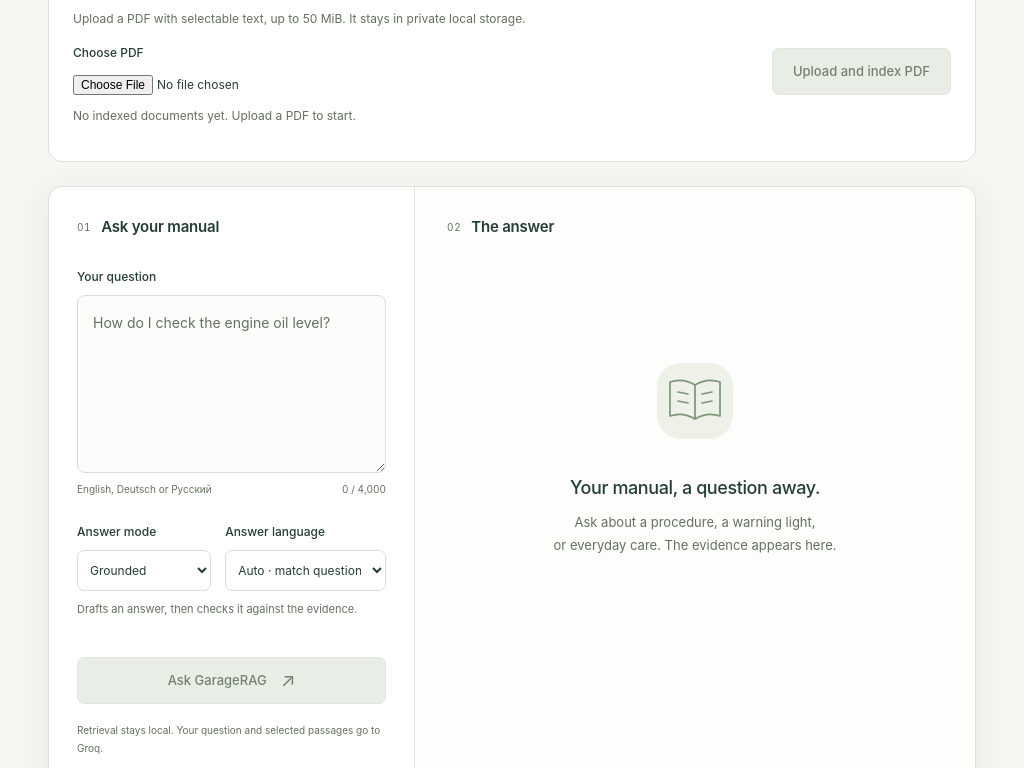
Test: Ask your manual › reports an unavailable backend without an automatic retry
(page scrolled)
Type "How do I check tires?" into the text box labelled "Your question".
click(232, 384); type("How do I check tires?")  # box [77,295,386,473]
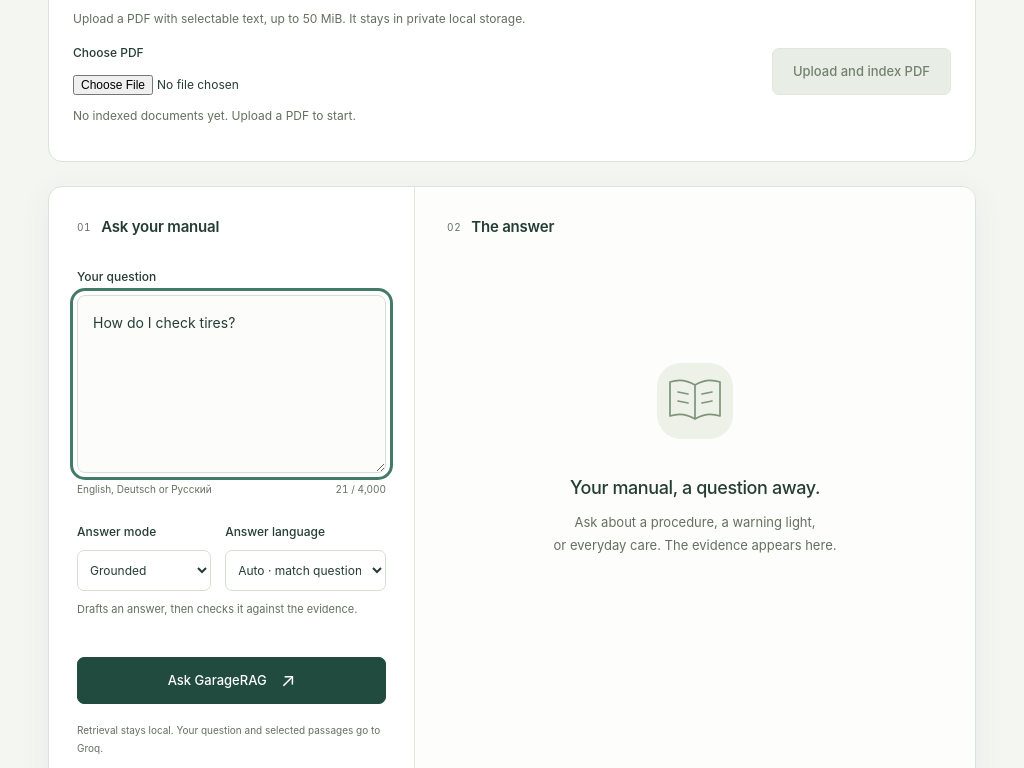
Click the button "Ask GarageRAG ↗".
click(232, 681)  # box [77,657,386,704]
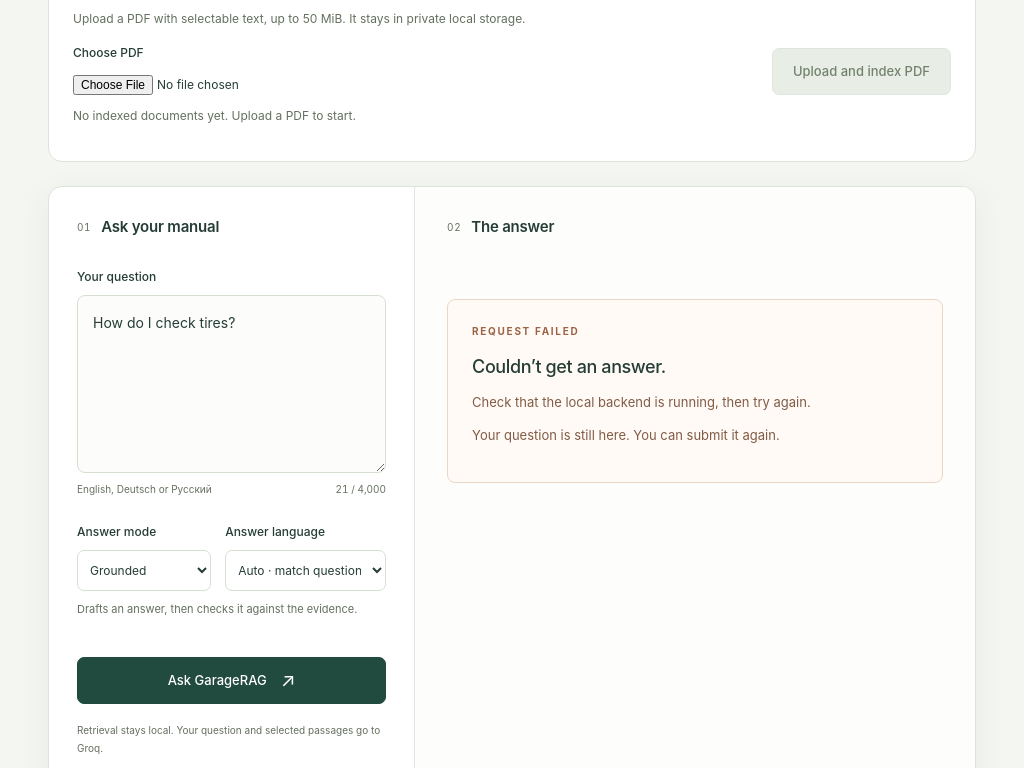
Expected: the message shows "Check that the local backend is running", [472,394,811,410]
